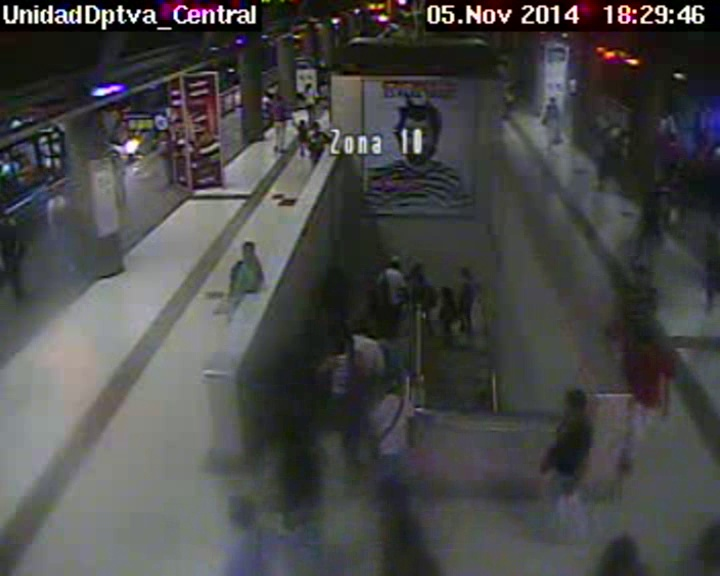person: (374, 497, 418, 543), (221, 494, 257, 526), (560, 387, 588, 417), (634, 325, 659, 349), (630, 261, 652, 284), (334, 330, 354, 350), (382, 380, 404, 398), (438, 286, 456, 303), (409, 258, 426, 274), (326, 260, 342, 277), (388, 253, 403, 271), (47, 184, 62, 202), (356, 320, 371, 337), (241, 241, 255, 259), (459, 267, 473, 282), (597, 123, 610, 138), (644, 184, 656, 200), (310, 119, 323, 133), (3, 208, 15, 222), (159, 130, 170, 140), (274, 93, 284, 103), (306, 82, 315, 92), (264, 88, 273, 98), (549, 95, 557, 106), (298, 119, 307, 128)
